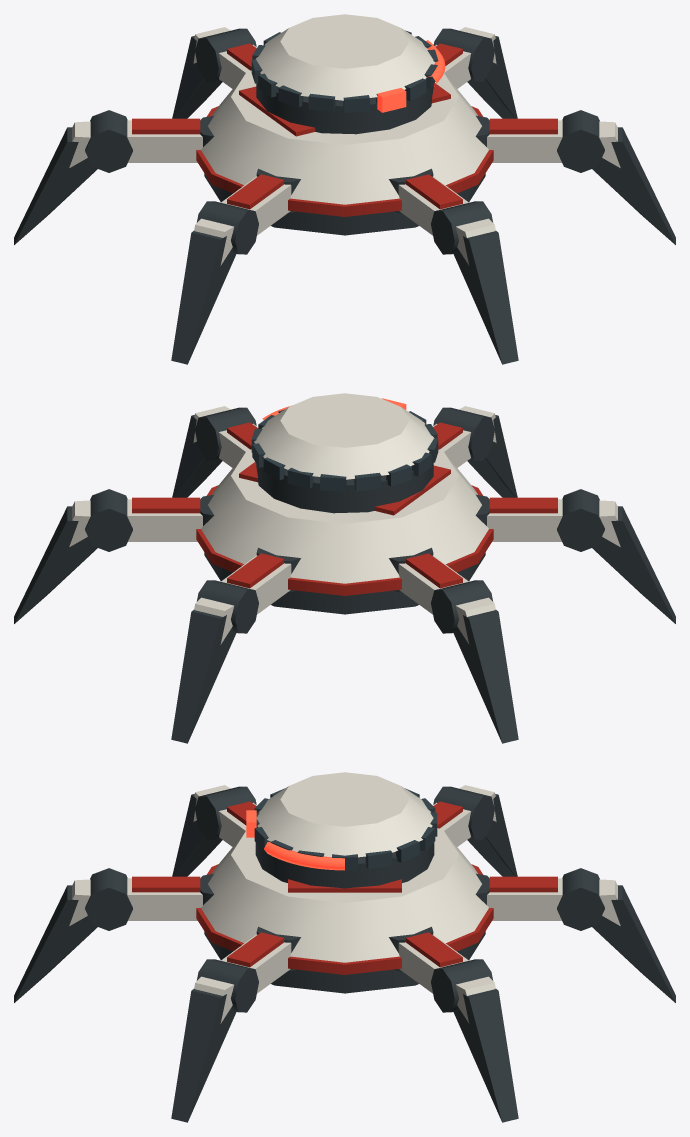
The picture shows the model from 3 angles, top to bottom: view 1: azimuth 30°, elevation 25°; view 2: azimuth 150°, elevation 25°; view 3: azimuth 270°, elevation 25°; orthographic projection.
Parts seen in each view (by area): view 1: mine-chassis-fleet-armor, mine-knee-1-painted, mine-knee-2-painted, mine-chassis-fleet-machine, mine-knee-0-painted, mine-knee-3-painted, mine-chassis-fleet-red, mine-hip-0-painted, mine-hip-3-painted, mine-knee-4-painted, mine-knee-5-painted, mine-chassis-fleet-glass (+5 smaller); view 2: mine-chassis-fleet-armor, mine-chassis-fleet-machine, mine-knee-3-painted, mine-knee-4-painted, mine-knee-2-painted, mine-knee-5-painted, mine-chassis-fleet-red, mine-hip-2-painted, mine-hip-5-painted, mine-knee-0-painted, mine-knee-1-painted, mine-chassis-fleet-glass (+4 smaller); view 3: mine-chassis-fleet-armor, mine-knee-0-painted, mine-knee-5-painted, mine-chassis-fleet-machine, mine-knee-1-painted, mine-knee-4-painted, mine-chassis-fleet-red, mine-hip-1-painted, mine-hip-4-painted, mine-knee-2-painted, mine-knee-3-painted, mine-hip-0-painted (+5 smaller).
Boxes of the visible parts, x1,y1,x2,y2 form: mine-chassis-fleet-armor: [201, 14, 488, 204]; mine-knee-1-painted: [431, 201, 518, 364]; mine-knee-2-painted: [171, 201, 258, 364]; mine-chassis-fleet-machine: [204, 83, 485, 235]; mine-knee-0-painted: [557, 110, 675, 244]; mine-knee-3-painted: [14, 110, 132, 244]; mine-chassis-fleet-red: [196, 83, 493, 216]; mine-hip-0-painted: [475, 115, 562, 162]; mine-hip-3-painted: [127, 115, 214, 162]; mine-knee-4-painted: [172, 27, 256, 118]; mine-knee-5-painted: [433, 27, 517, 118]; mine-chassis-fleet-glass: [251, 30, 438, 112]; mine-chassis-fleet-armor: [201, 393, 488, 583]; mine-chassis-fleet-machine: [204, 462, 485, 614]; mine-knee-3-painted: [431, 580, 518, 743]; mine-knee-4-painted: [171, 580, 258, 743]; mine-knee-2-painted: [557, 489, 675, 623]; mine-knee-5-painted: [14, 489, 132, 623]; mine-chassis-fleet-red: [196, 462, 493, 595]; mine-hip-2-painted: [475, 494, 562, 541]; mine-hip-5-painted: [127, 494, 214, 541]; mine-knee-0-painted: [172, 406, 256, 497]; mine-knee-1-painted: [433, 406, 517, 497]; mine-chassis-fleet-glass: [251, 409, 438, 491]; mine-chassis-fleet-armor: [201, 772, 488, 962]; mine-knee-0-painted: [171, 959, 258, 1122]; mine-knee-5-painted: [431, 959, 518, 1122]; mine-chassis-fleet-machine: [204, 842, 485, 993]; mine-knee-1-painted: [14, 868, 132, 1002]; mine-knee-4-painted: [557, 868, 675, 1002]; mine-chassis-fleet-red: [196, 864, 493, 974]; mine-hip-1-painted: [127, 873, 214, 920]; mine-hip-4-painted: [475, 873, 562, 920]; mine-knee-2-painted: [172, 785, 256, 876]; mine-knee-3-painted: [433, 785, 517, 876]; mine-hip-0-painted: [221, 926, 300, 993].
Bounding box in the file's own units: 5.1 × 1.93 × 5.79.
